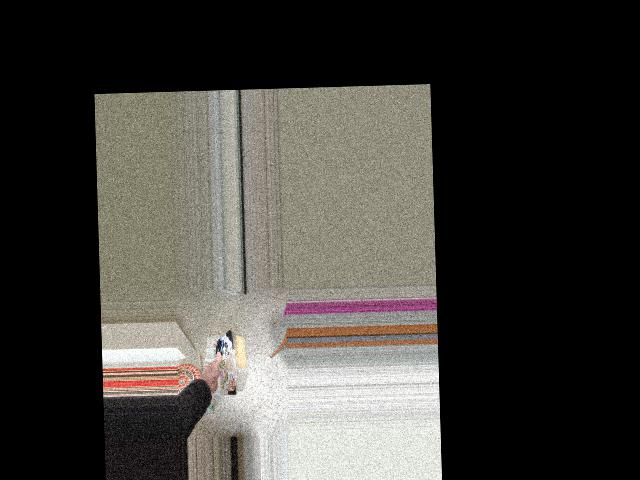cheese: (199, 327, 265, 403)
